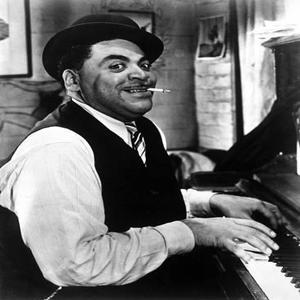cigarette: (147, 87, 171, 95)
